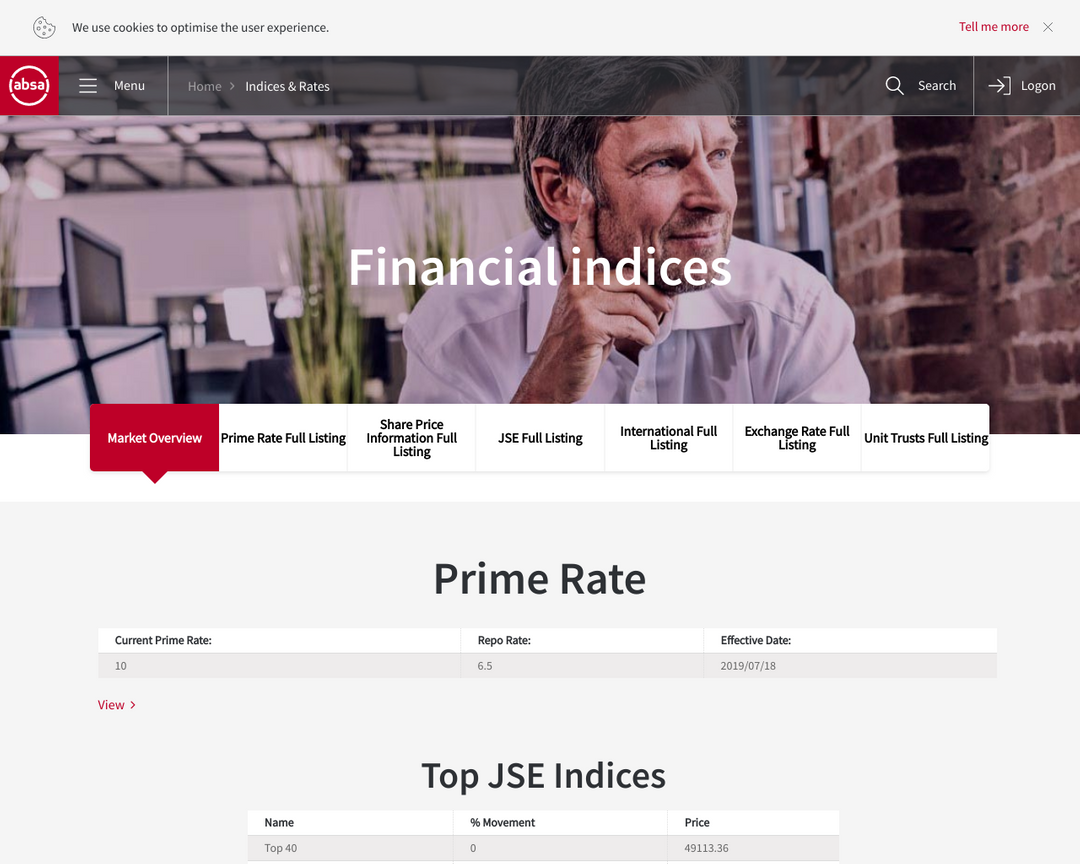ABSA: (6, 65, 52, 106)
